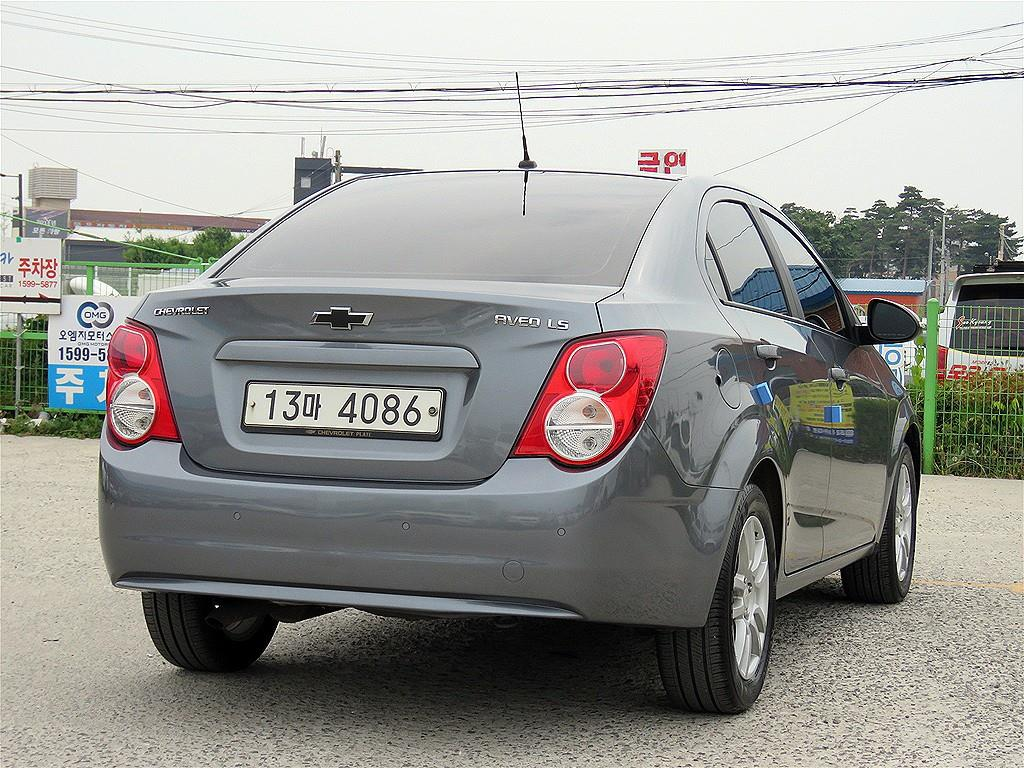plate: (244, 383, 443, 434)
